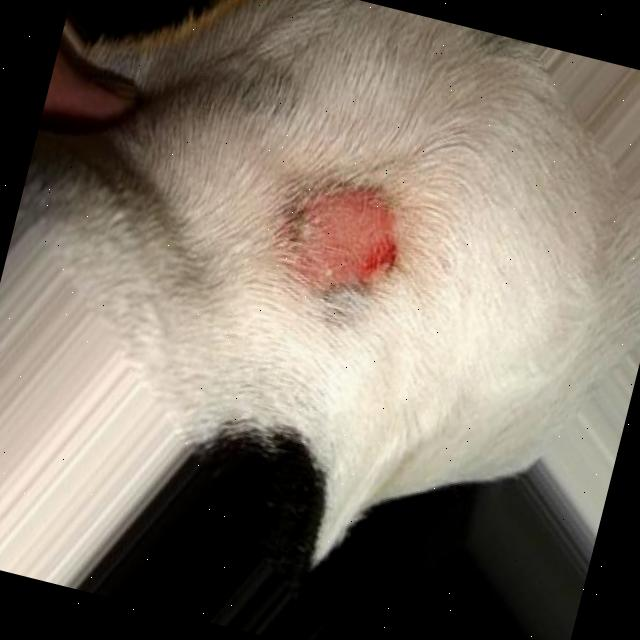cat-ringworm: (250, 150, 429, 330)
